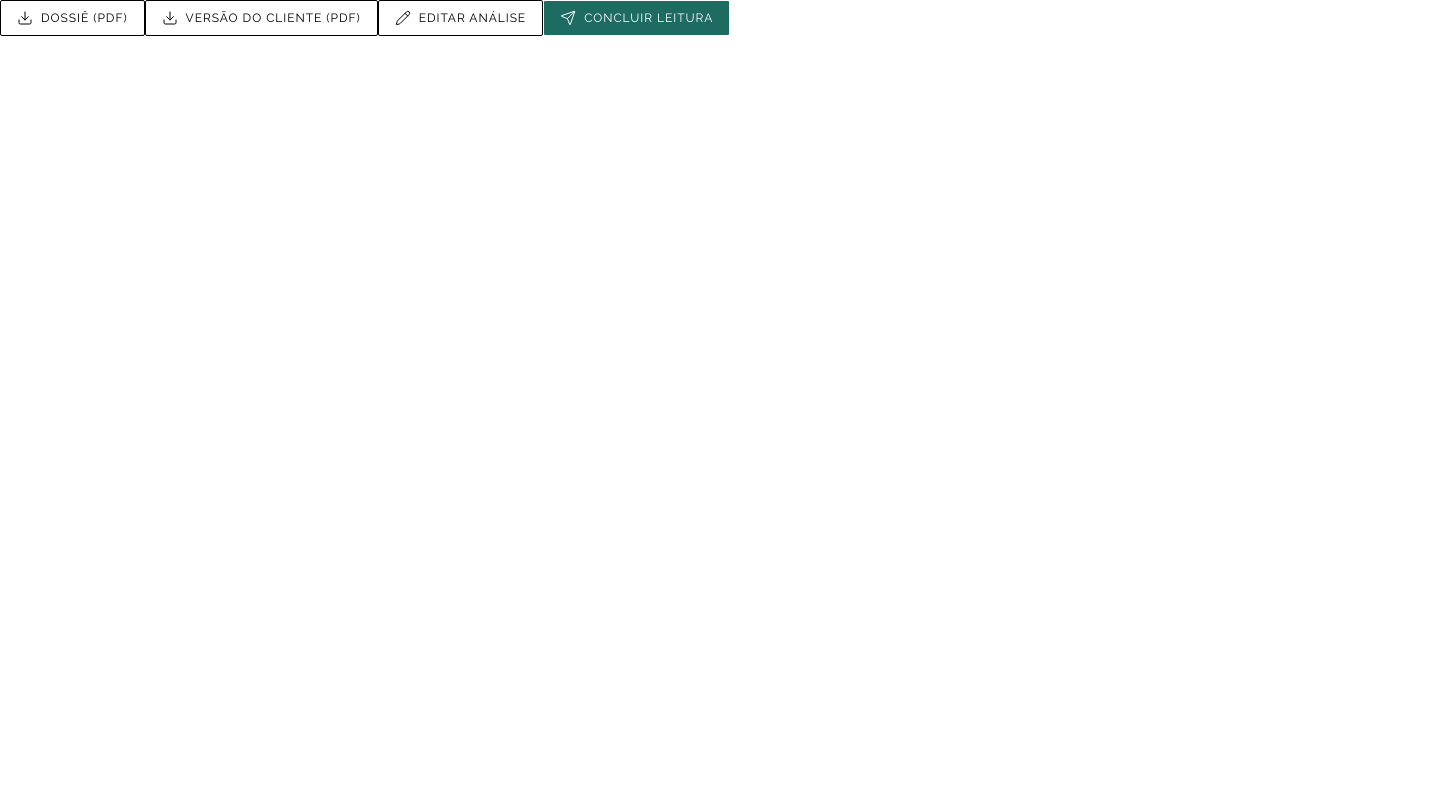
Test: components/readings/ReadingModeActions (Plan 7.4-18 — UAT-3 reading-mode top buttons) › clicking Concluir leitura opens DeliverDialog (rendered after click)
Expected: the text "Concluir leitura?" is not shown
Click the button with test id "reading-mode-deliver": (637, 18) x1=543 y1=0 x2=730 y2=36
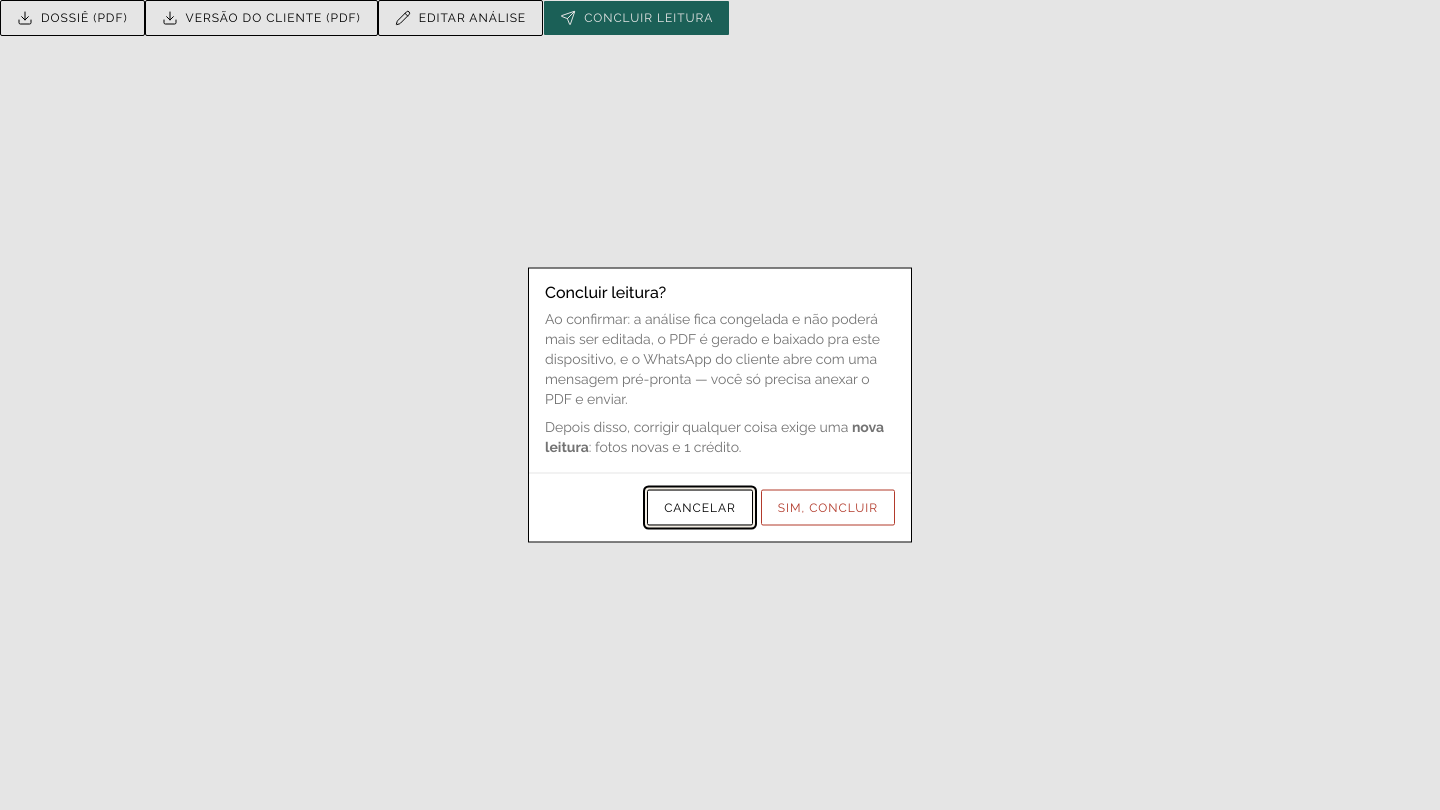
Now the heading "Concluir leitura?" is shown, box x1=545 y1=282 x2=666 y2=302
